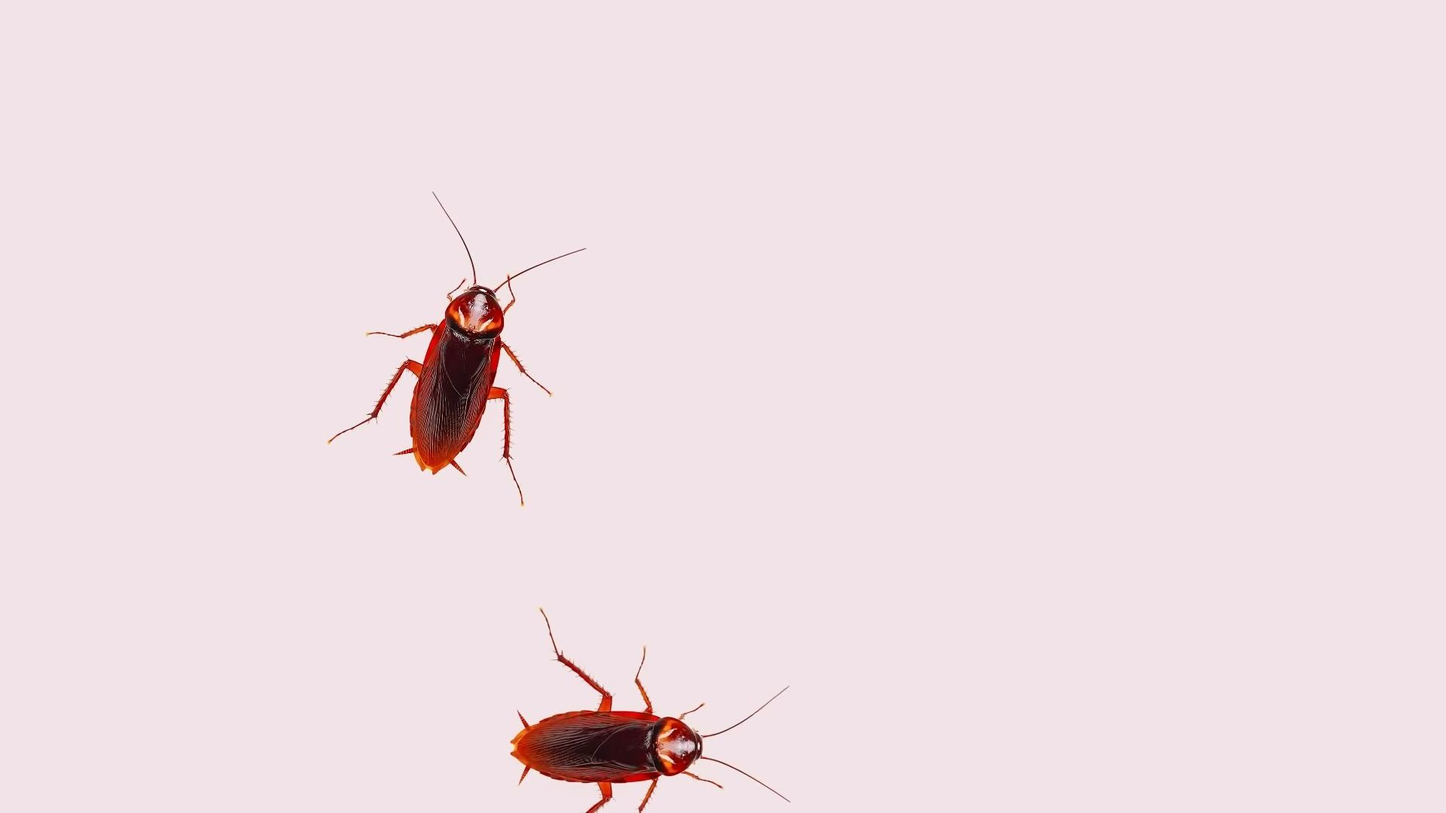cockroach: (341, 179, 581, 524), (503, 593, 795, 813)
